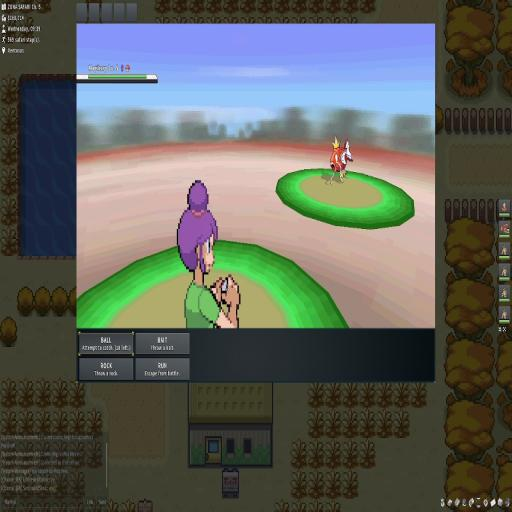FIGHTBAR: (78, 330, 191, 381)
MAGIKARP: (328, 136, 354, 186)
